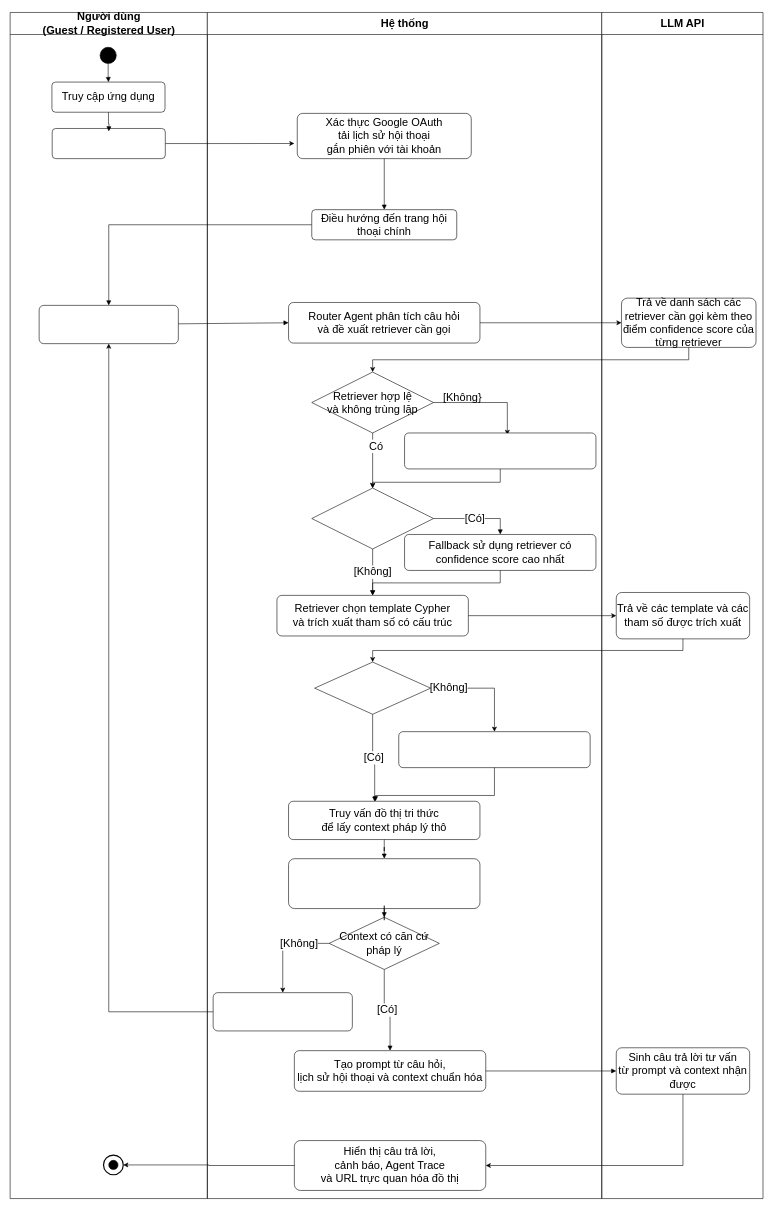
This 773x1209 diagram has some shape labels left out. Each missing label, with the centre of its shape:
"Chuẩn hóa context lọc hiệu lực, khử trùng lặp, phân loại căn cứ, gán cờ cảnh báo" belongs at (384,883).
"Dùng template tổng quát hoặc tham số mặc định" belongs at (494,749).
"Fallback sử dụng retriever mặc định và (hoặc) khử trùng lặp" belongs at (500,450).
"Nhập câu hỏi" belongs at (108,324).
"Template và tham số hợp lệ" belongs at (372,687).
"Thông báo không trả lời được yêu cầu bổ sung thông tin hoặc đặt câu hỏi khác" belongs at (282,1011).
"Tất cả Retriever đều không vượt qua Policy" belongs at (372,518).
"Đăng nhập" belongs at (108,143).
